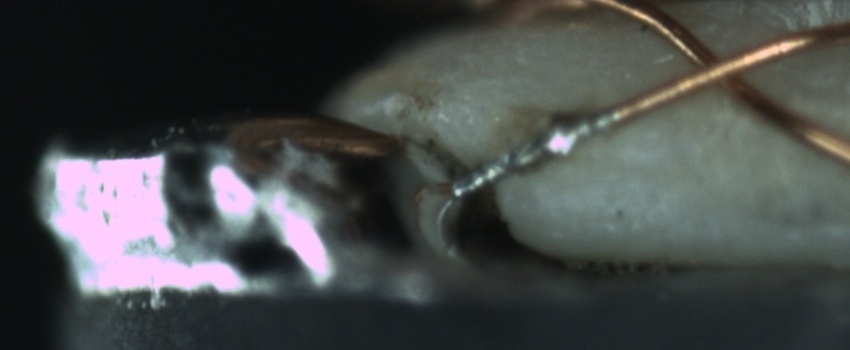CL: (673, 35, 771, 104)
TB: (509, 120, 576, 176)
TS: (450, 109, 615, 200)
TTCW: (444, 86, 638, 204)
